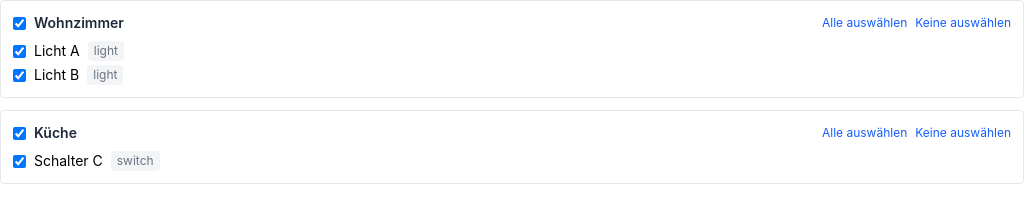
EntityCurationPanel › unchecking an entity unchecks it in the DOM
The image size is (1024, 201).
Click the checkbox labelled "Licht A light": [20, 51] box [13,44,26,58]
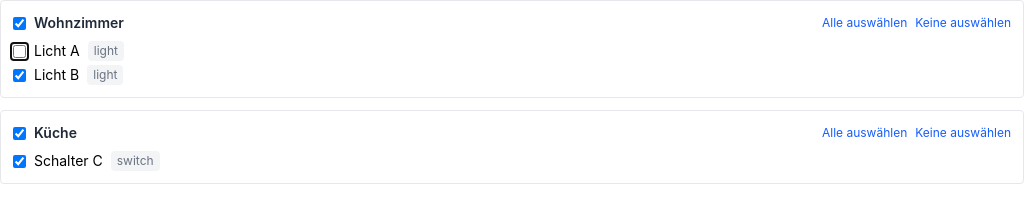
Expected: the checkbox labelled "Licht B light" is checked, [13,68,26,82]
Expected: the checkbox labelled "Licht A light" is not checked, [13,44,26,58]
